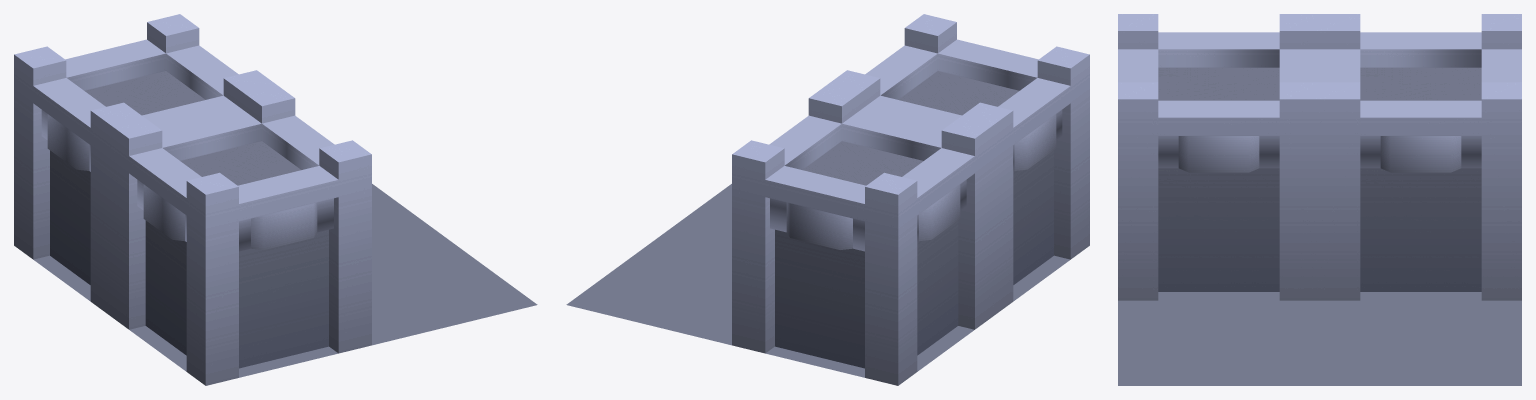
Rendered from wall.glb.
The picture shows the model from 3 angles, left to right: view 1: azimuth 30°, elevation 25°; view 2: azimuth 150°, elevation 25°; view 3: azimuth 270°, elevation 25°; orthographic projection. The views are drawn at different scales.
Parts seen in each view (by area): view 1: wall, wall2, floor, floor2; view 2: wall2, wall, floor2, floor; view 3: wall, wall2, floor, floor2.
Part boxes in pixels (<box>): wall: <box>110,84,371,385</box>; wall2: <box>14,14,275,315</box>; floor: <box>372,235,537,345</box>; floor2: <box>372,184,441,251</box>; wall2: <box>732,84,993,385</box>; wall: <box>828,14,1089,315</box>; floor2: <box>566,235,731,345</box>; floor: <box>662,184,731,251</box>; wall: <box>1118,14,1319,300</box>; wall2: <box>1320,14,1521,300</box>; floor: <box>1118,300,1319,385</box>; floor2: <box>1320,300,1521,385</box>.
Size of the model in its own units: 2 by 1.1 by 2.
4 materials, 4 textured.
